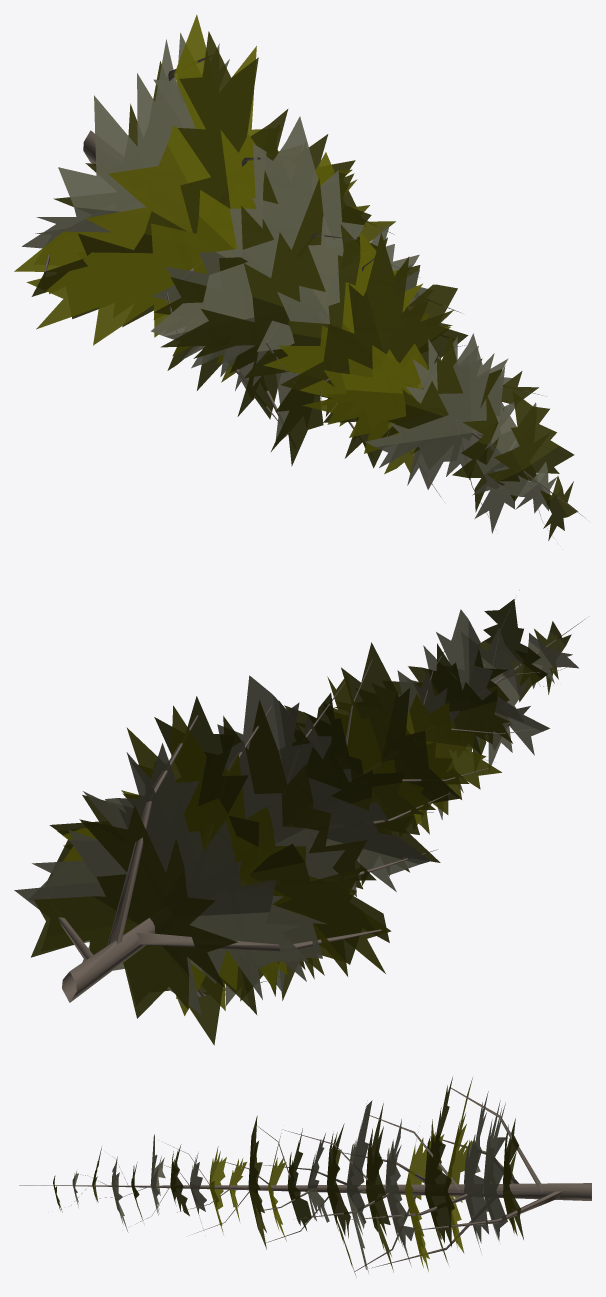
Rendered from Tree5.obj.
3 renders of one model, top to bottom at view 1: azimuth 30°, elevation 25°; view 2: azimuth 150°, elevation 25°; view 3: azimuth 270°, elevation 25°, orthographic. The views are drawn at different scales.
Parts seen in each view (by area): view 1: group_2.001_ID15; view 2: group_2.001_ID15; view 3: group_2.001_ID15.
Boxes of the visible parts, x1,y1,x2,y2 form: group_2.001_ID15: (14,14,584,540); group_2.001_ID15: (14,590,584,1045); group_2.001_ID15: (19,1077,591,1276).
Size of the model in its own units: 4.68 by 4.76 by 11.88.
